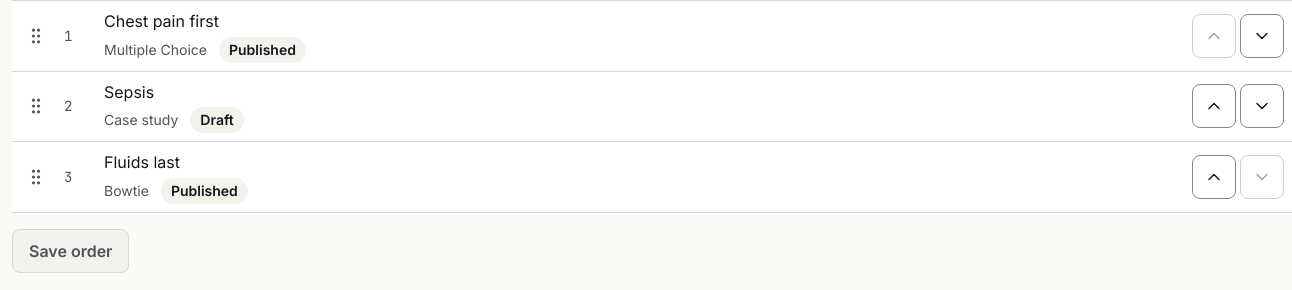
Test: QuizOrderEditor › saves the whole order at once and starts again from it
This screenshot has width=1292, height=290.
Click the button named "Move \"Sepsis\" up" at (1214, 106), box [1192,84,1236,128]
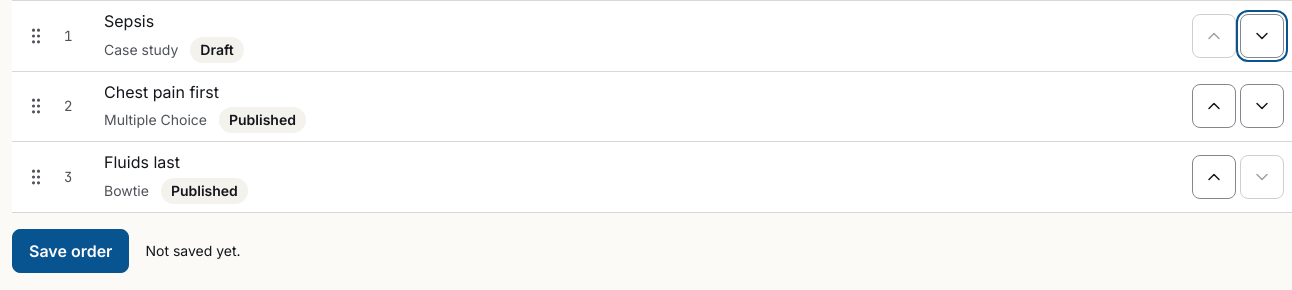
Click the button "Save order" at (71, 251), box [12,229,130,273]
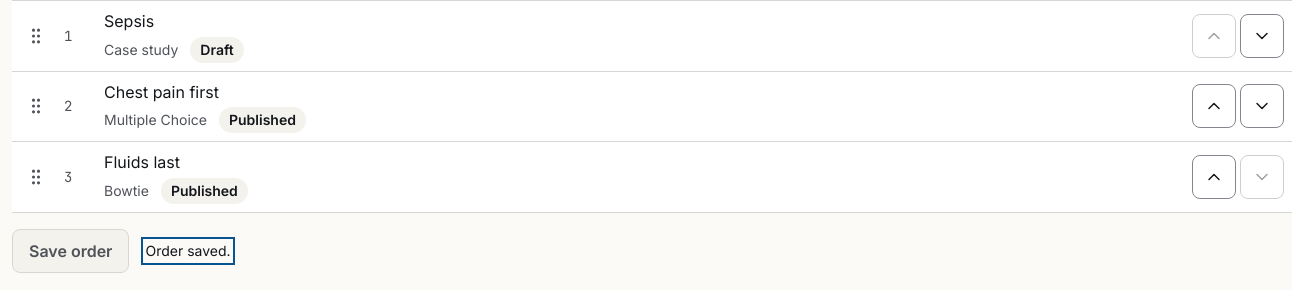
Expected: the button "Save order" is disabled, [12,229,130,273]
Expected: the text "Not saved yet." is gone
